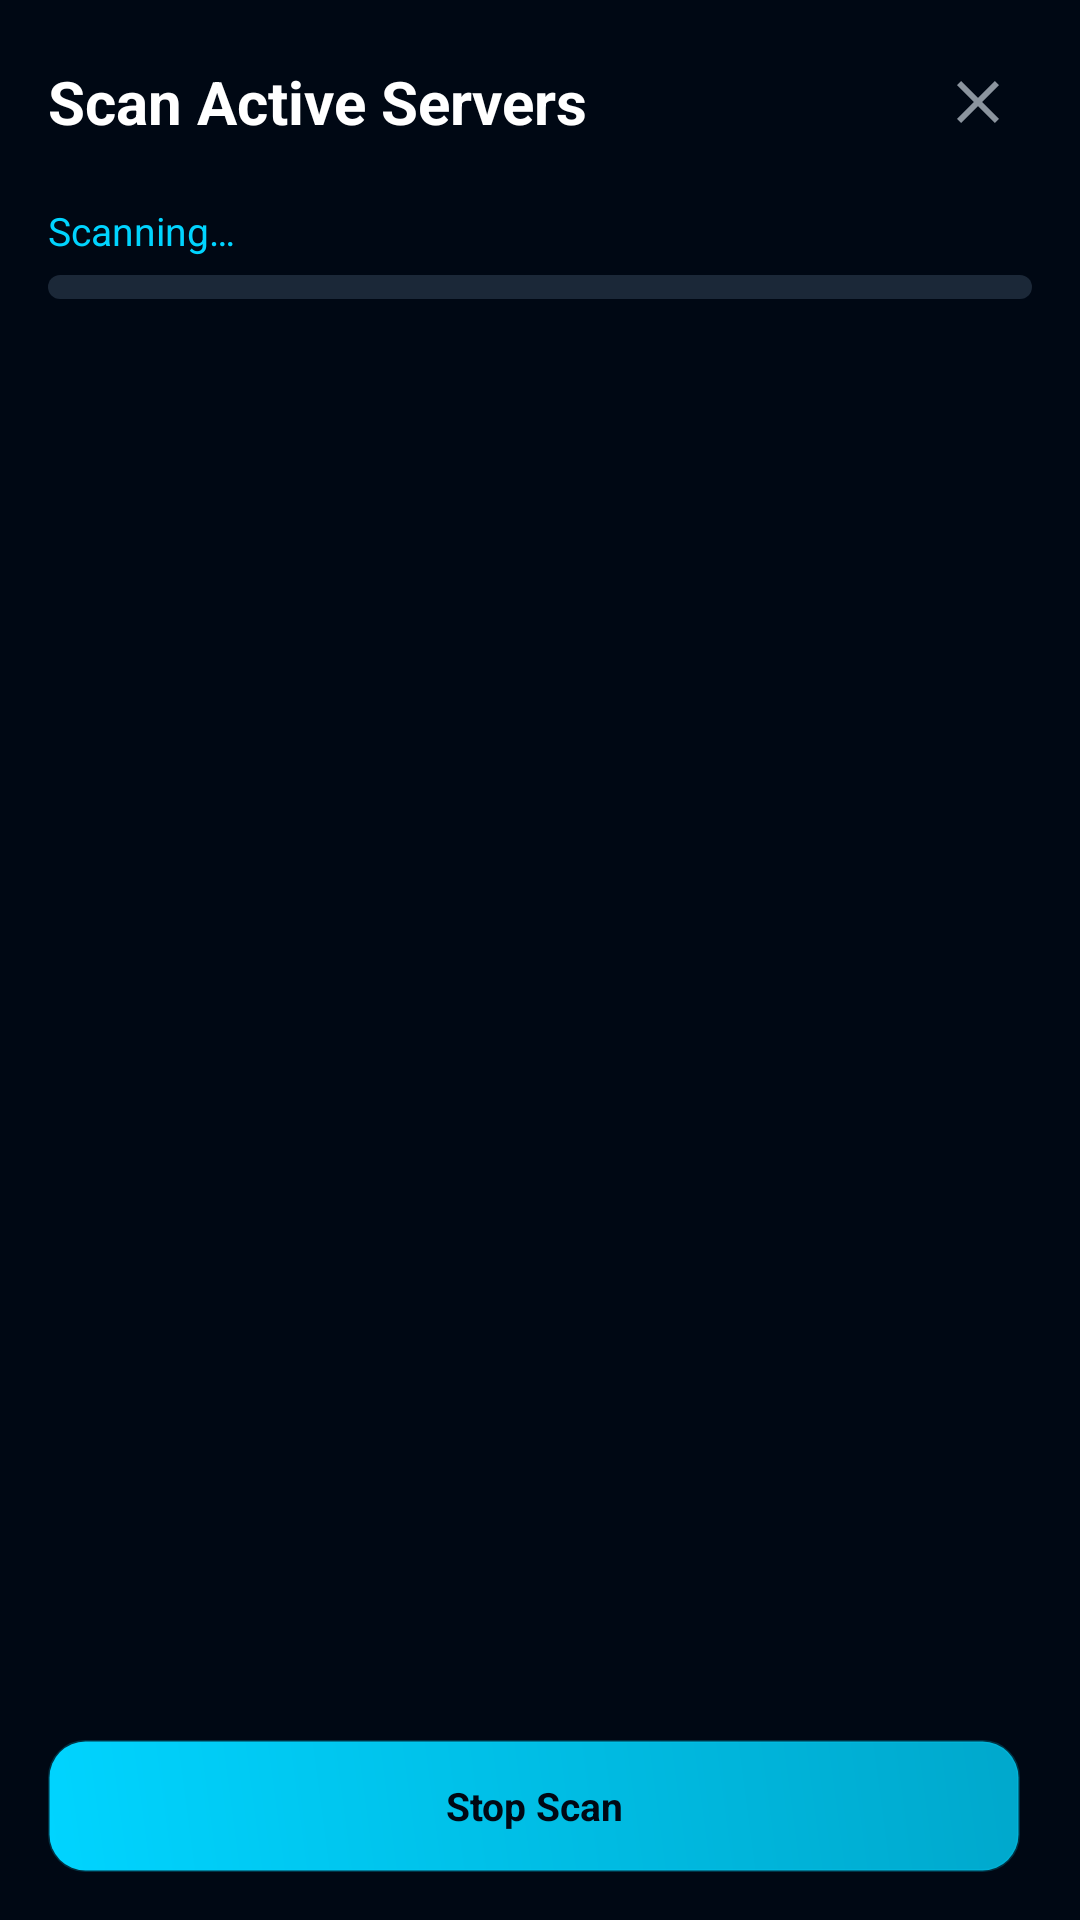

Where to tap for icons on this 1080 x 1920 app screen, as point (x, y):
close: point (978, 102)
